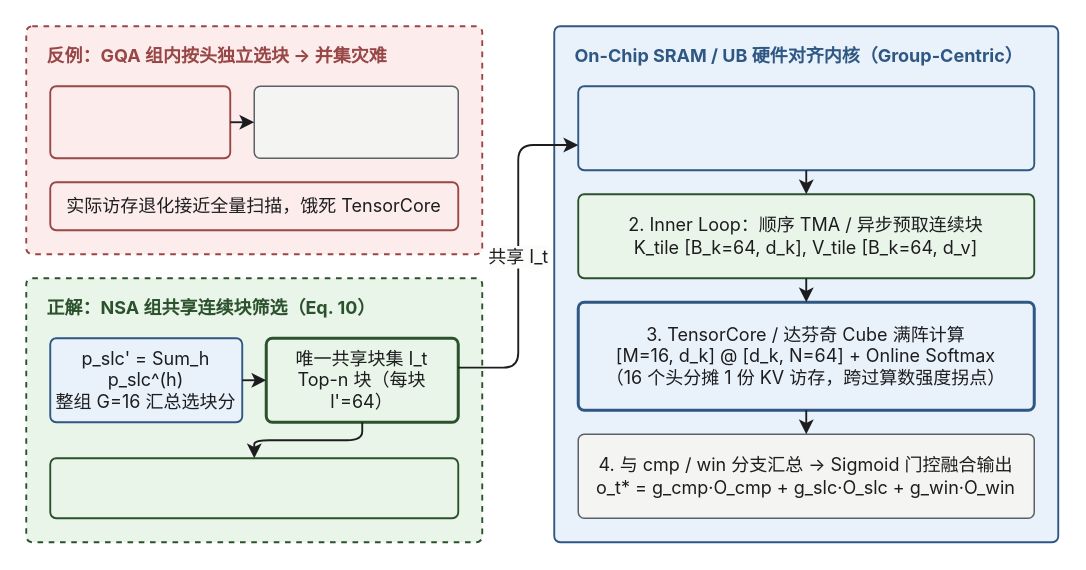
Image size: 1086x570. Some labels were removed from this diagram. Each missing label, with the centre of its shape:
"1. Grid Outer Loop：按时间步 t 与 GQA 组调度 一次驻留全组查询 Q_g [G=16, d_k] + 索引 I_t" goes at (x=806, y=128).
"Head 0..15 各挑 Top-n 离散块" goes at (x=140, y=122).
"底层共享同一 HBM KV 被迫搬运 16 头并集" goes at (x=355, y=121).
"整组只读 n 块连续 KV（带宽直降 4x~11.6x）" goes at (x=254, y=488).
